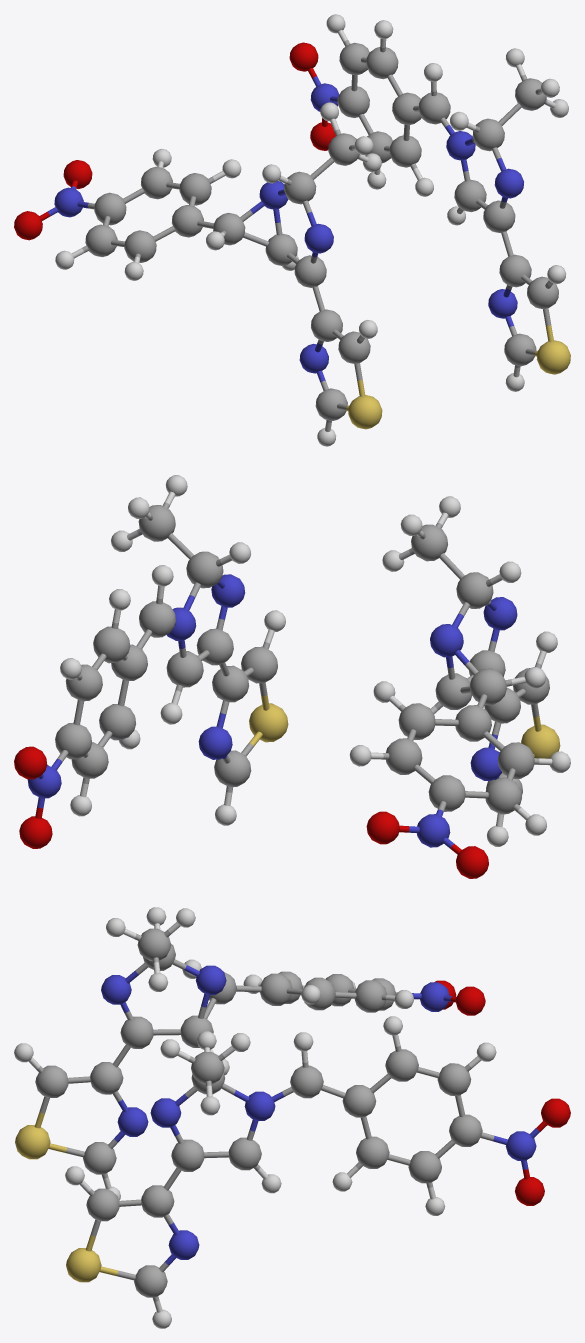
The model's file is thiazole.glb.
3 renders of one model, top to bottom at view 1: azimuth 30°, elevation 25°; view 2: azimuth 150°, elevation 25°; view 3: azimuth 270°, elevation 25°, orthographic. The views are drawn at different scales.
Visible parts, largest first — view 1: ThA-BA; view 2: ThA-BA; view 3: ThA-BA.
Boxes of the visible parts, x1,y1,x2,y2 form: ThA-BA: (14, 14, 570, 446); ThA-BA: (14, 475, 570, 878); ThA-BA: (14, 907, 570, 1328).
Bounding box in the file's own units: 2.56 × 1.77 × 2.69.
